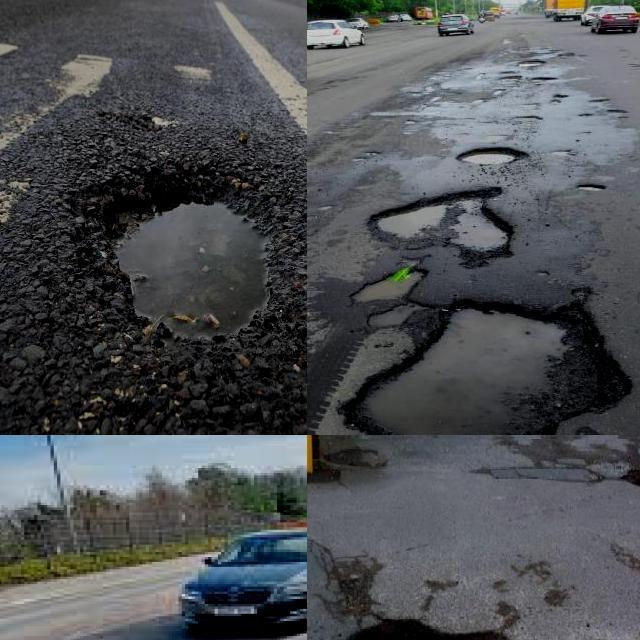Pothole: (81, 170, 284, 361), (343, 298, 624, 435), (371, 192, 512, 256), (466, 147, 527, 167)
